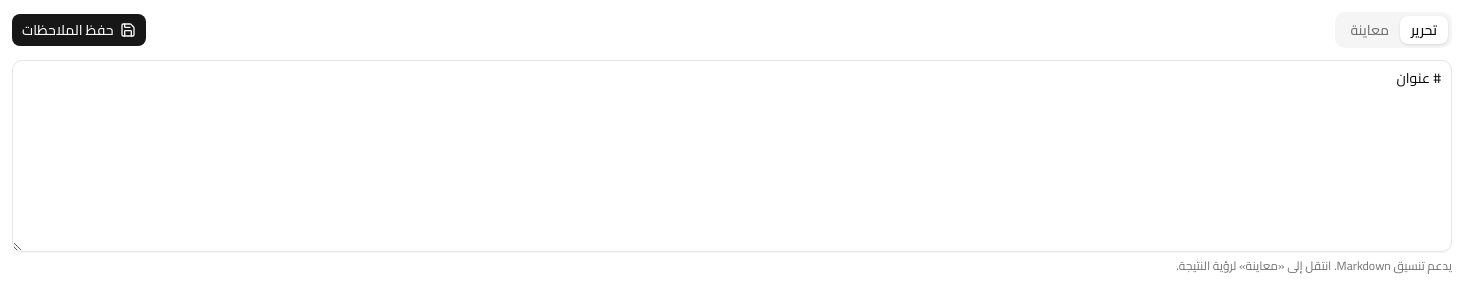
Test: MarkdownEditor preview › renders markdown headings in the preview tab
Click the tab "معاينة". click: (1370, 30)
box: [1339,16,1400,44]
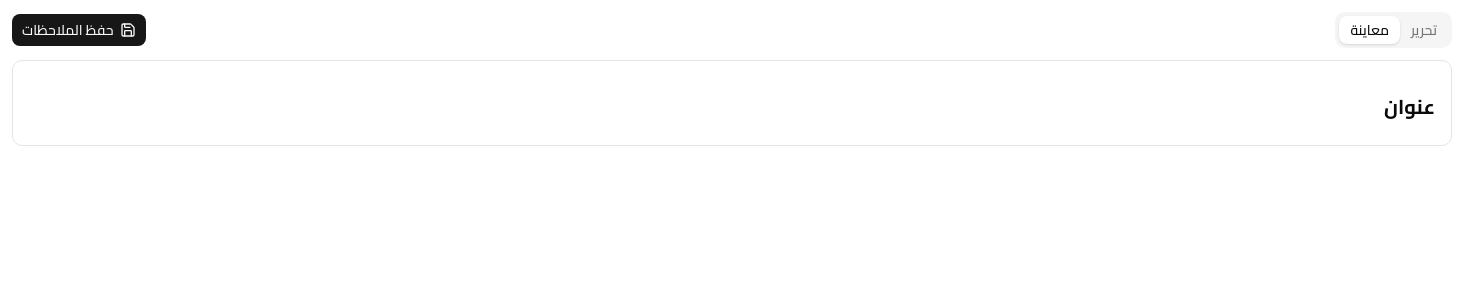
expect the heading "عنوان" is shown: met, box [1384,88,1435,125]
